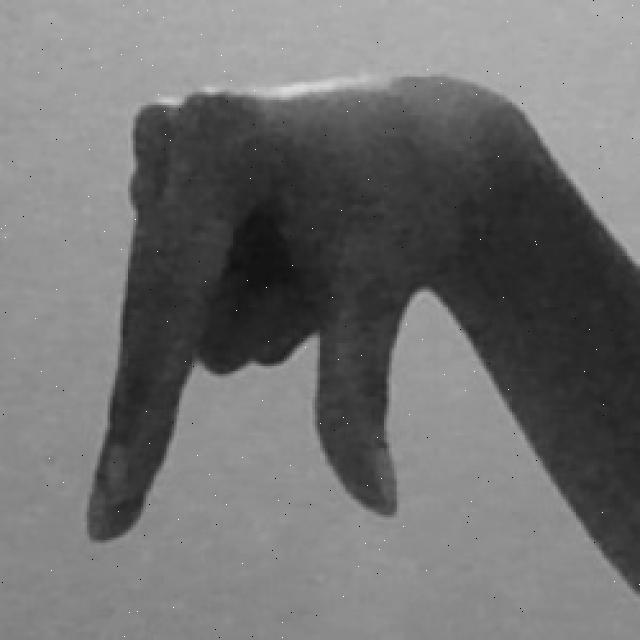Q: (65, 55, 640, 604)
